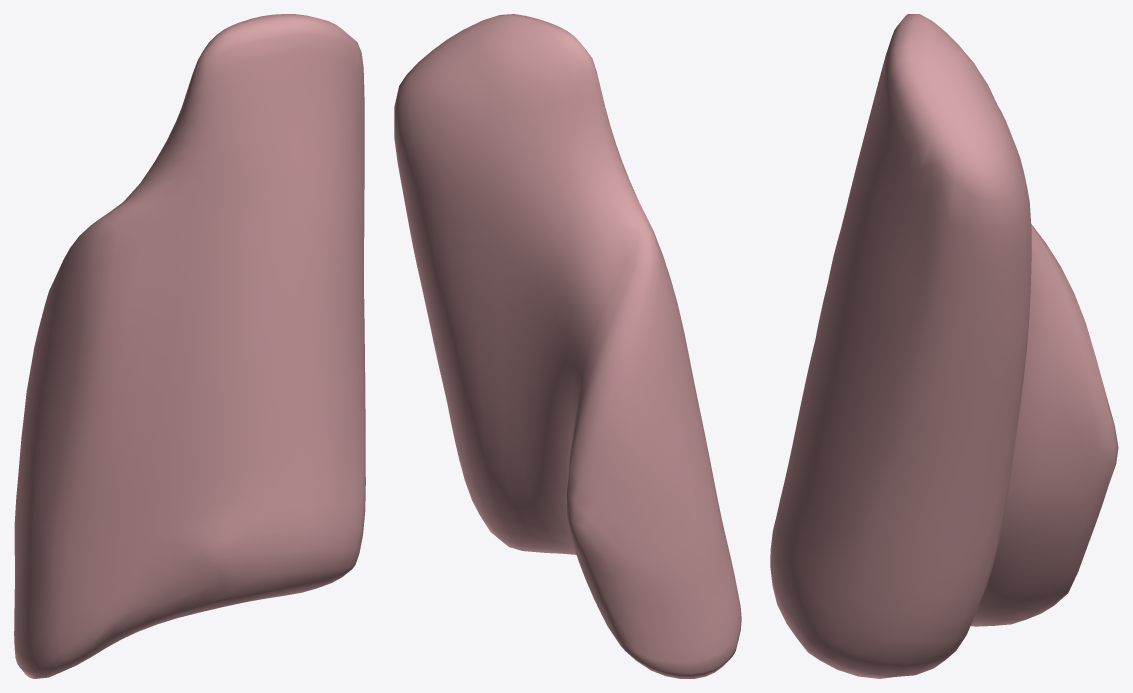
3 views of the same model, side by side, from view 1: azimuth 30°, elevation 25°; view 2: azimuth 150°, elevation 25°; view 3: azimuth 270°, elevation 25° (orthographic). The views are drawn at different scales.
Visible parts, largest first — view 1: ZA_48010902e05e280b; view 2: ZA_48010902e05e280b; view 3: ZA_48010902e05e280b.
Boxes of the visible parts, <box> form: ZA_48010902e05e280b: <box>14,14,365,678</box>; ZA_48010902e05e280b: <box>394,14,741,678</box>; ZA_48010902e05e280b: <box>770,14,1118,678</box>.
Bounding box in the file's own units: 0.0442 × 0.0771 × 0.0344.
